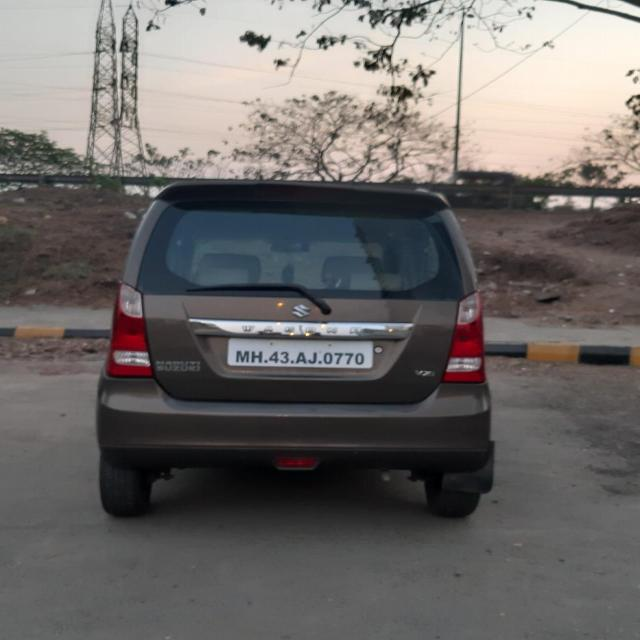Number-Plate: (230, 339, 375, 369)
